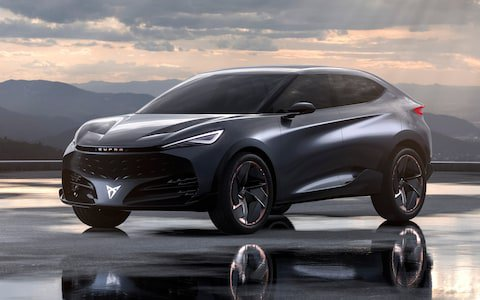car: (60, 63, 432, 231)
